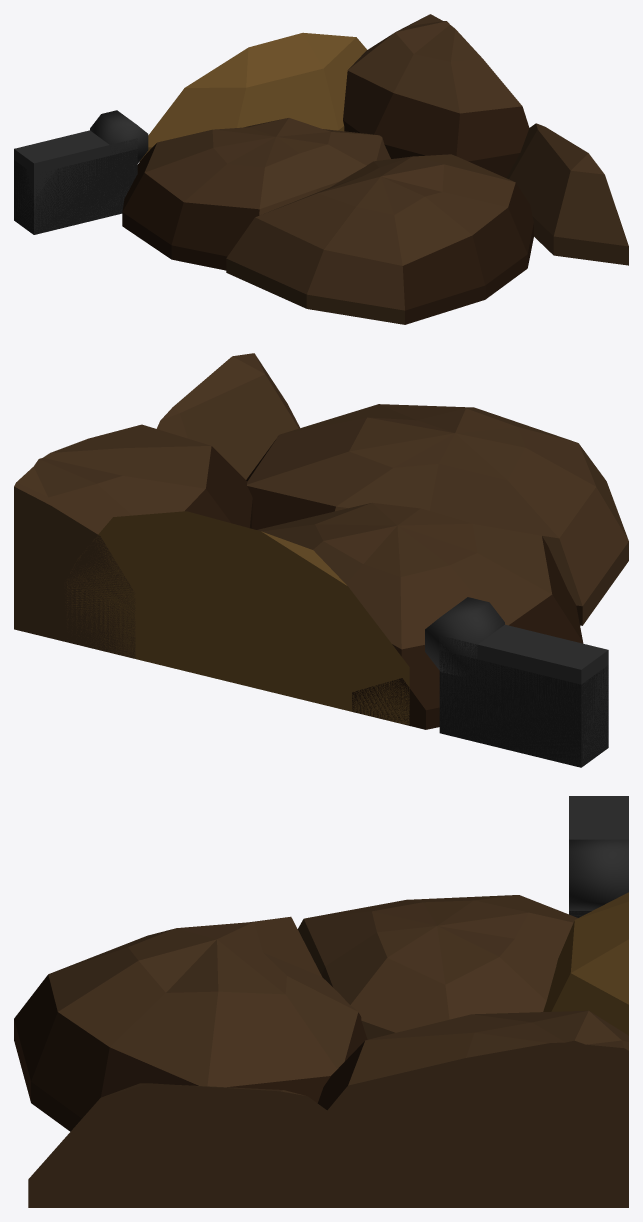
File: newshr-275.glb
The picture shows the model from 3 angles, top to bottom: view 1: azimuth 30°, elevation 25°; view 2: azimuth 150°, elevation 25°; view 3: azimuth 270°, elevation 25°; orthographic projection. The views are drawn at different scales.
Visible parts, largest first — view 1: newshr-275; view 2: newshr-275; view 3: newshr-275.
Part boxes in pixels (x1,y1,x2,y2): newshr-275: (14,14,628,324); newshr-275: (14,353,628,767); newshr-275: (14,796,628,1207).
Bounding box in the file's own units: 2 × 0.5401 × 1.71.
